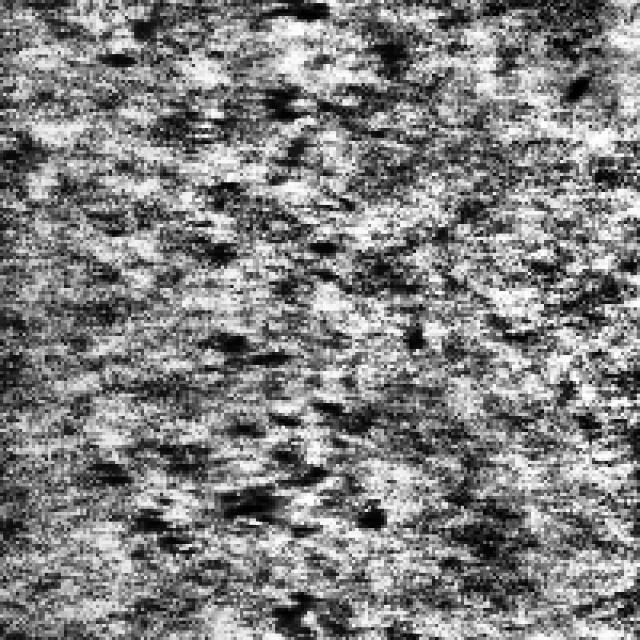Crazing: (99, 323, 381, 602), (164, 76, 332, 292)
